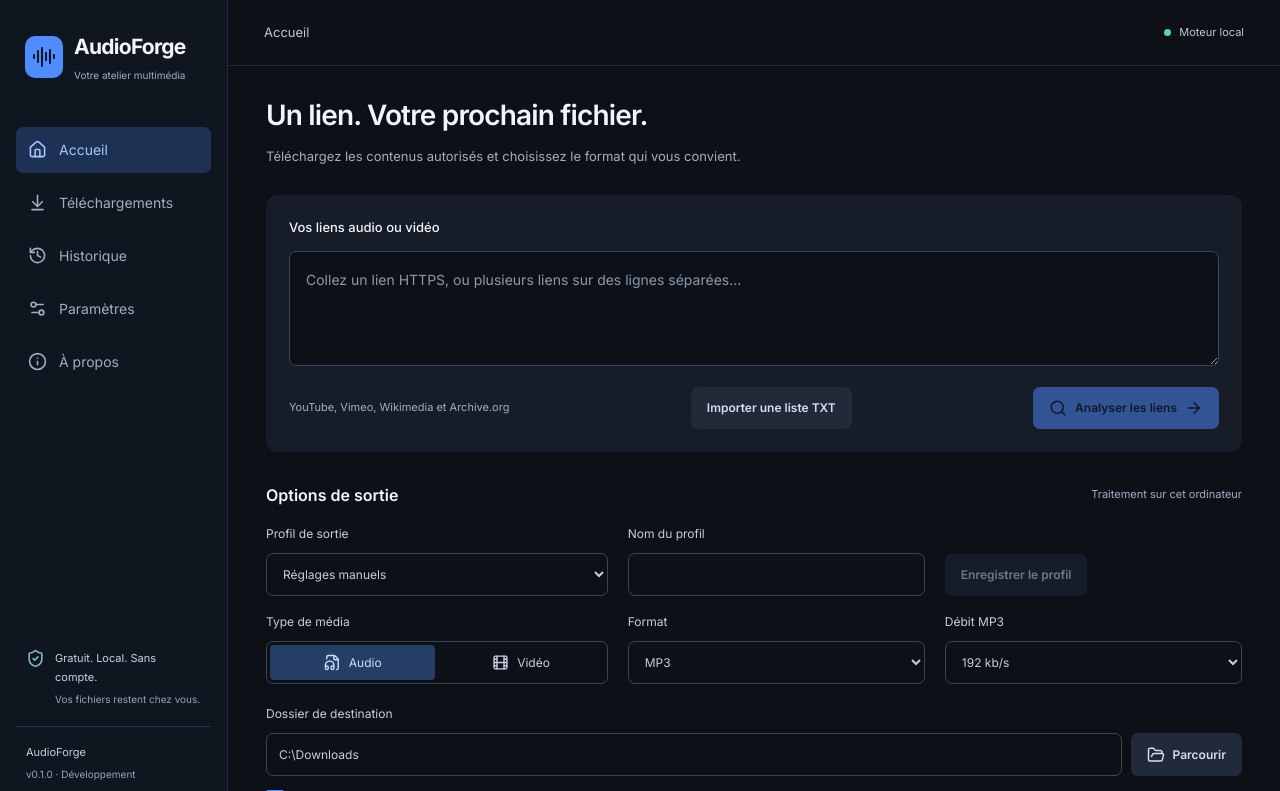
it: parcours natifs avec IPC simulé › analyse puis transmet une tâche typée avec les options choisies
Type "https://vimeo.com/123" into the text box labelled "Vos liens audio ou vidéo".
click(754, 308); type("https://vimeo.com/123")  # box [289,251,1219,366]
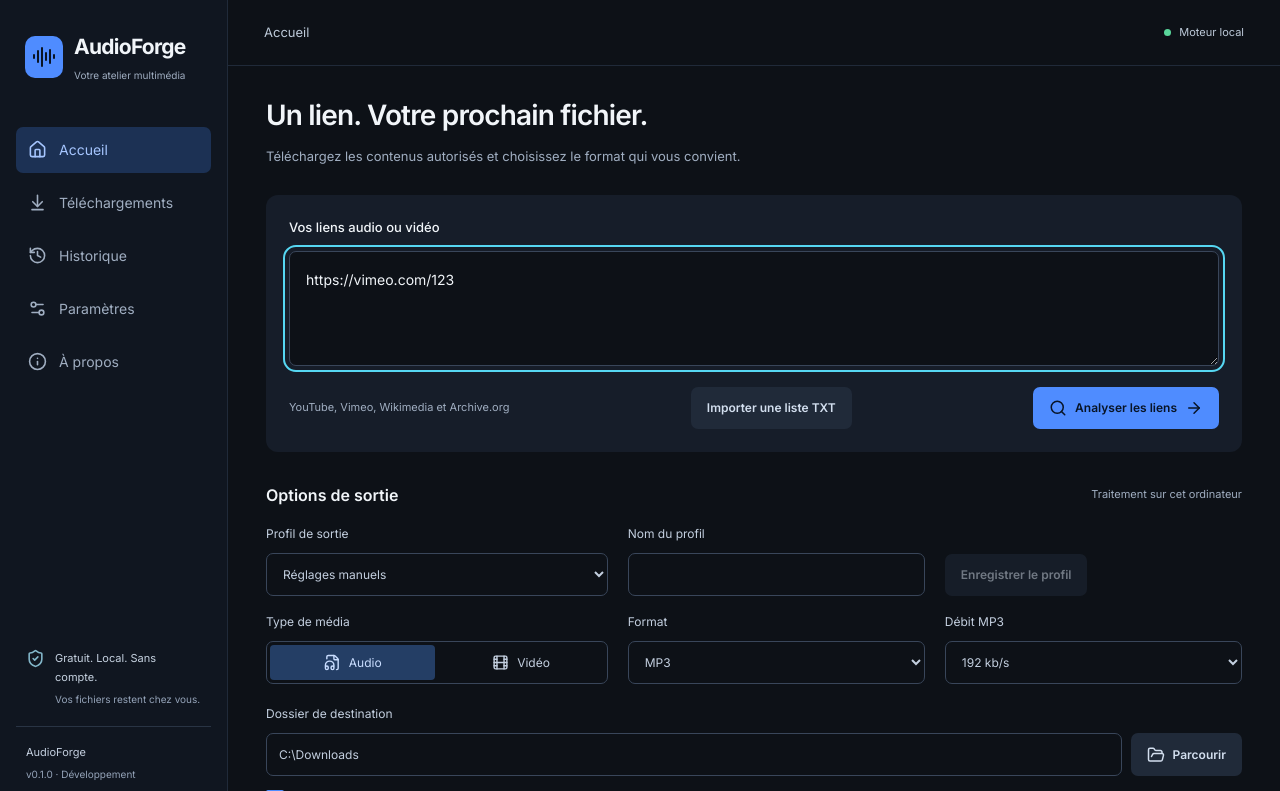
Click the button "Analyser les liens".
click(1126, 408)  # box [1033,387,1219,429]
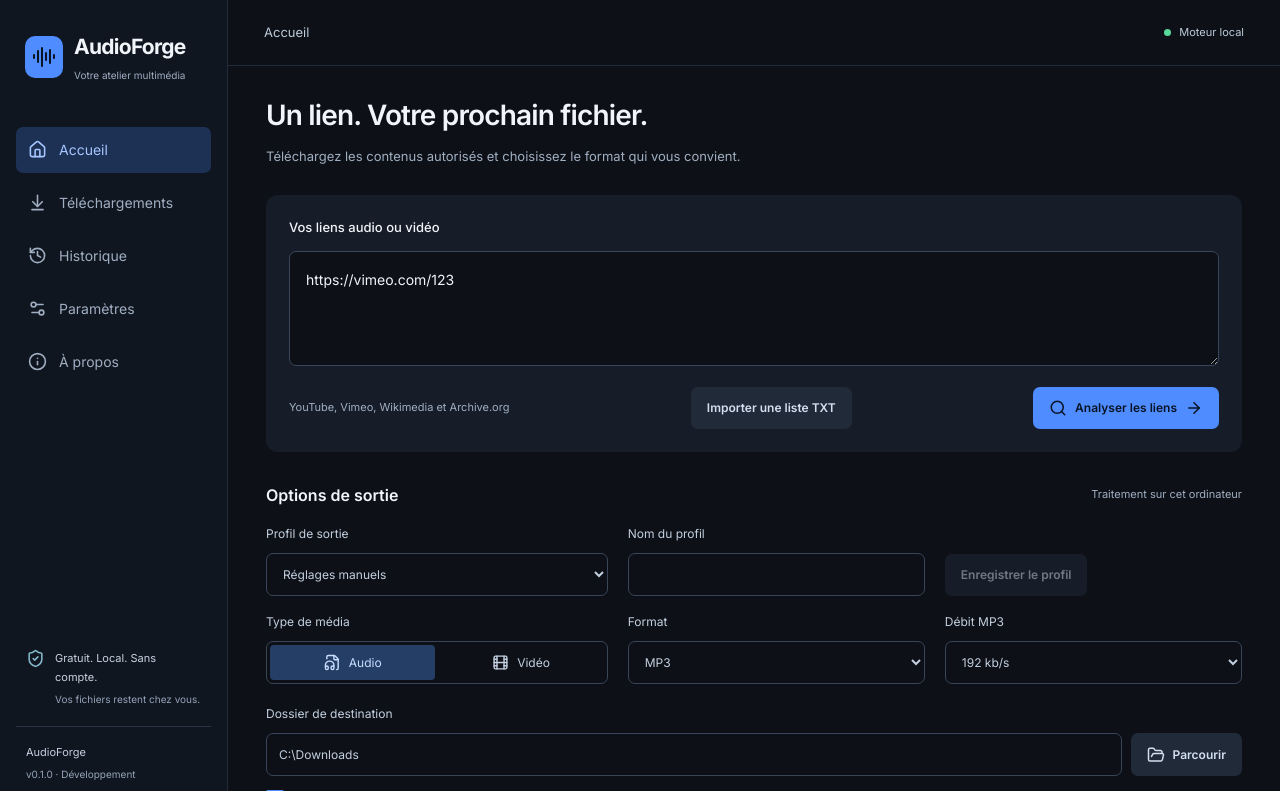
Select "FLAC" in the dropdown labelled "Format" at (776, 663), box [628,641,925,684]
(page scrolled)
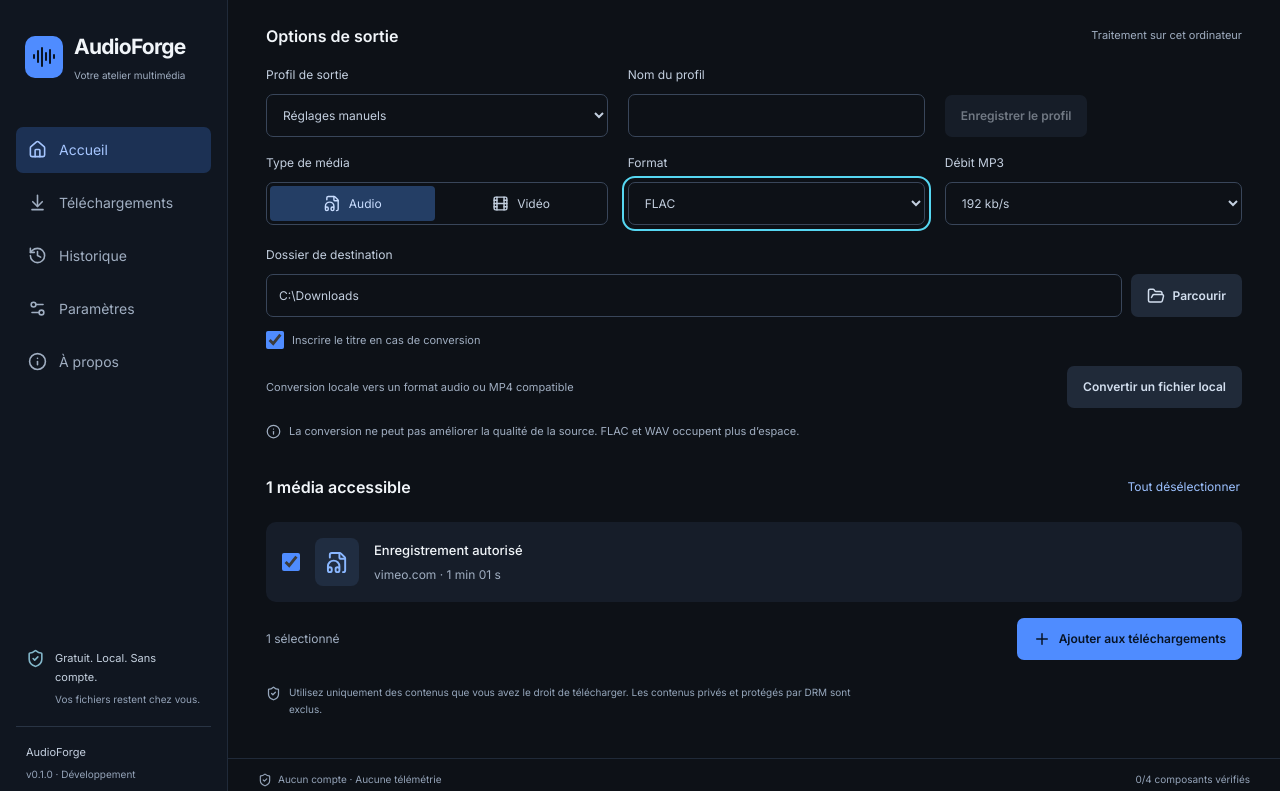
Click the button "Ajouter aux téléchargements".
click(1129, 640)  # box [1017,618,1242,660]
(page scrolled)
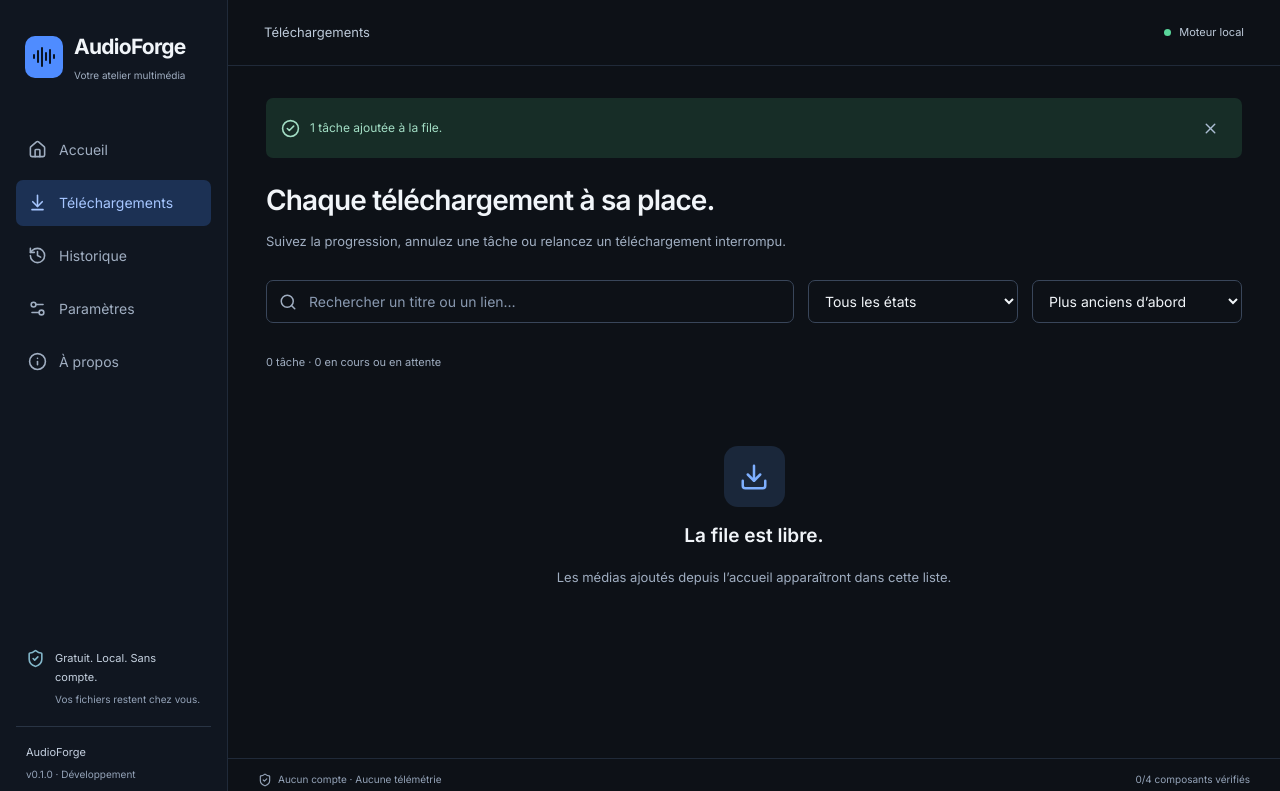
Now the message shows "1 tâche ajoutée", box [310,120,442,135]
